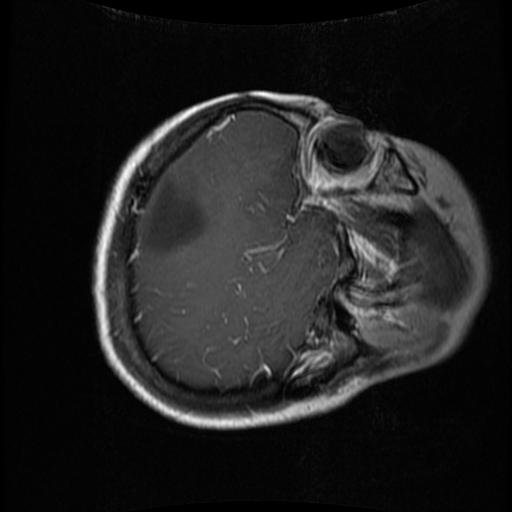glioma: (140, 178, 204, 254)
